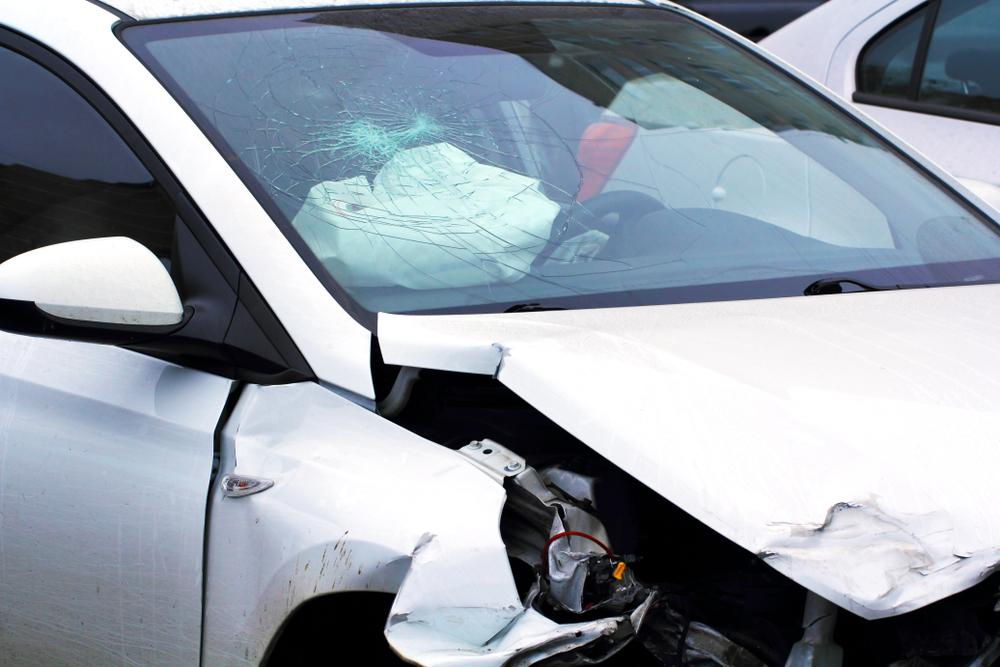dent: (385, 532, 605, 667), (758, 502, 1000, 617), (234, 385, 385, 506), (452, 341, 530, 382)
glass shatter: (123, 4, 1000, 332)
